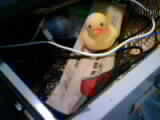duck: (77, 9, 122, 69)
